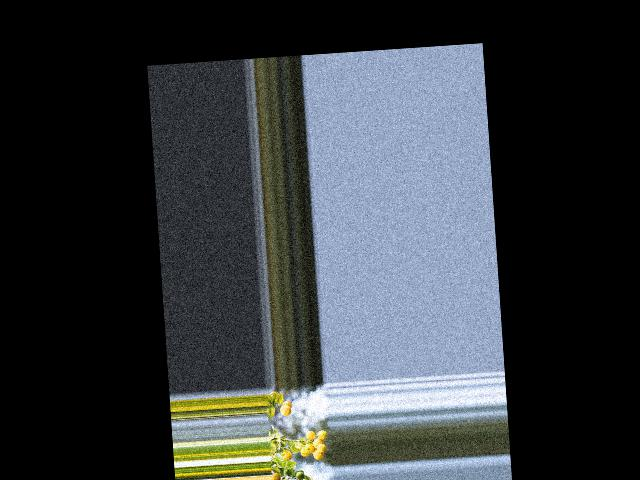lemon: (312, 448, 327, 459)
